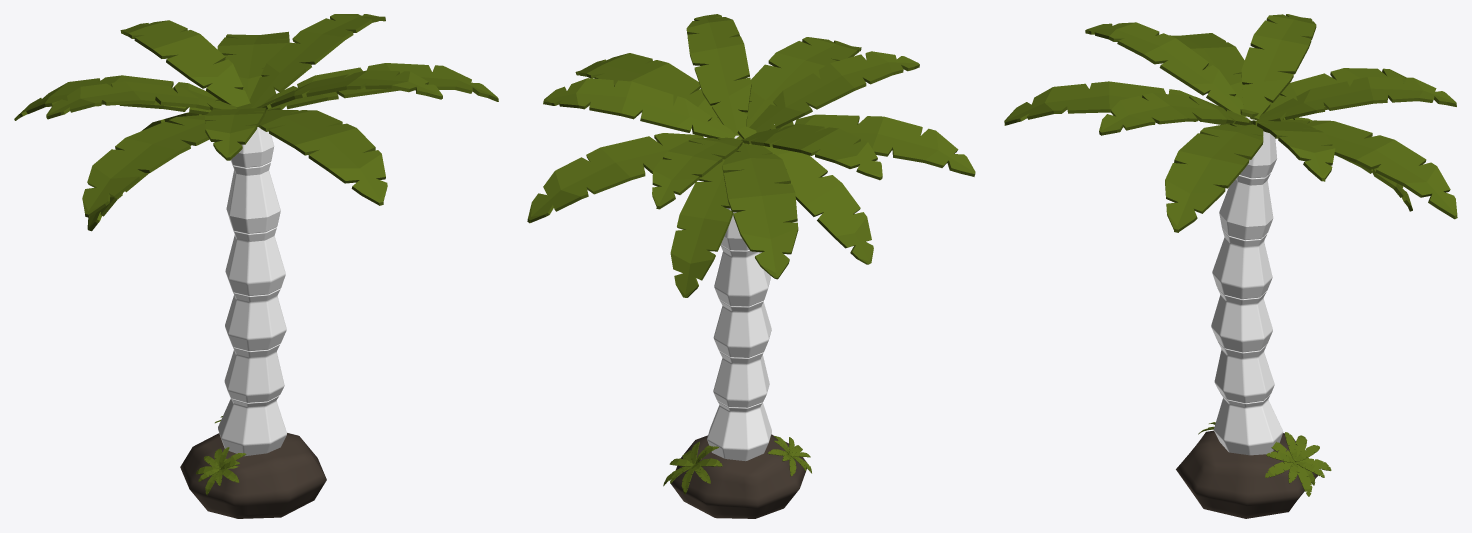
Rendered from palm.glb.
3 views of the same model, side by side, from view 1: azimuth 30°, elevation 25°; view 2: azimuth 150°, elevation 25°; view 3: azimuth 270°, elevation 25° (orthographic). The views are drawn at different scales.
Parts seen in each view (by area): view 1: leafs, palm, stone, plants2; view 2: leafs, palm, stone, plants, plants2; view 3: leafs, palm, stone, plants.
Boxes of the visible parts, x1,y1,x2,y2 form: leafs: (14,14,498,231); palm: (218,127,286,456); stone: (180,433,326,518); plants2: (196,447,246,494); leafs: (527,14,975,297); palm: (707,135,771,461); stone: (671,434,806,518); plants: (663,441,722,494); plants2: (767,436,811,476); leafs: (1004,14,1457,232); palm: (1211,116,1283,455); stone: (1176,430,1317,518); plants: (1265,432,1331,496).
Bounding box in the file's own units: 3.31 × 3.38 × 3.2.
